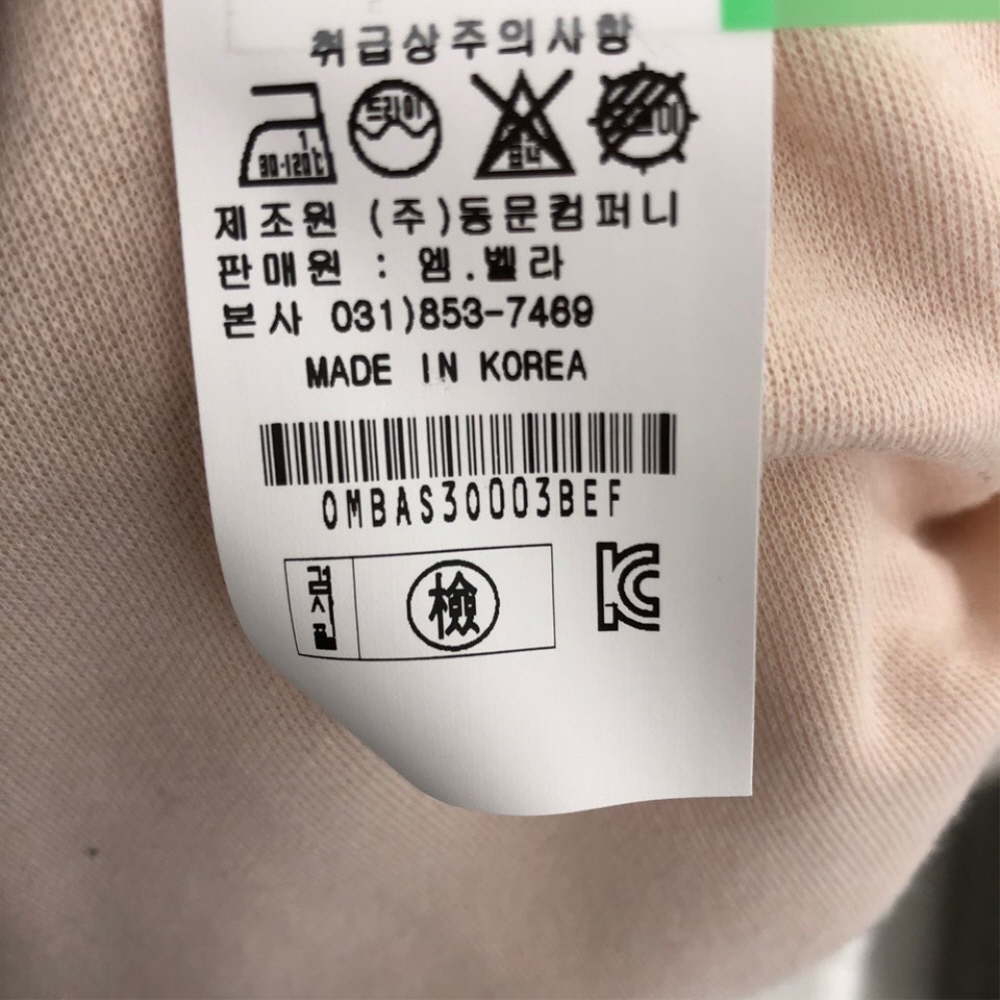KR_dry_clean: (343, 72, 456, 189)
KR_hang_dry_in_shade: (584, 61, 705, 173)
KR_iron_low_temp: (219, 74, 346, 195)
KR_no_chlorine_bleach: (465, 62, 588, 181)
